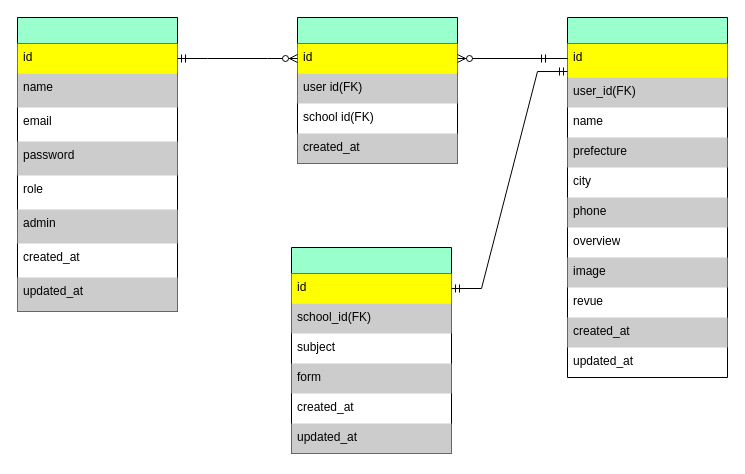
The diagram is 745 pixels wide and 474 high, and some of its shapes have lost their labels. Each missing label, with the box of its shape:
favorite: (296, 16, 458, 164)
profile: (290, 246, 452, 454)
school: (566, 16, 728, 378)
user: (16, 16, 178, 312)
